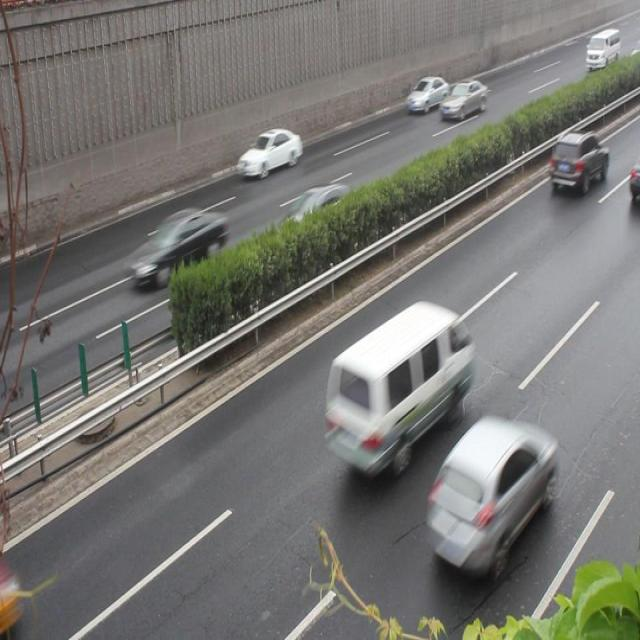car: (422, 417, 554, 568), (126, 206, 226, 288), (279, 184, 355, 256), (546, 130, 608, 196), (237, 127, 302, 179), (441, 77, 485, 123), (406, 77, 447, 117)
truck: (325, 299, 467, 466)
